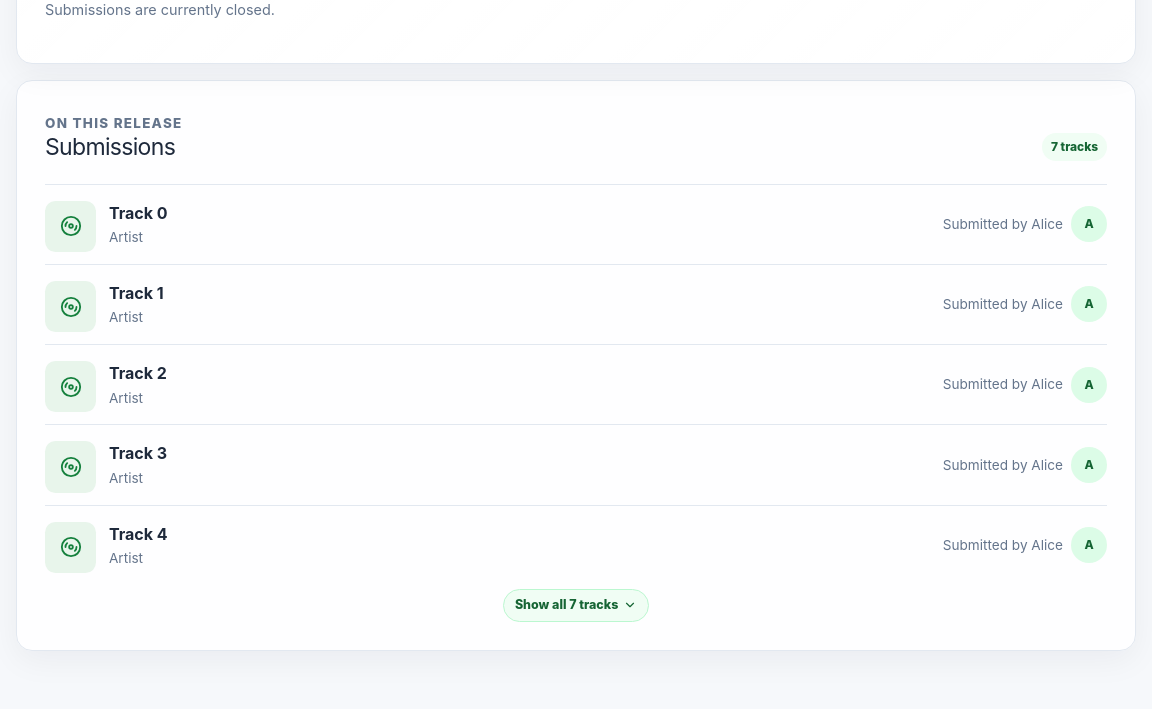
RoundPage › shows five submissions until expanded
(page scrolled)
Expected: the text "Track 4" is shown, [109,524,168,544]
Expected: the text "Track 5" is not shown
Click the button "Show all 7 tracks". click: (576, 605)
box: [503,589,649,622]
(page scrolled)
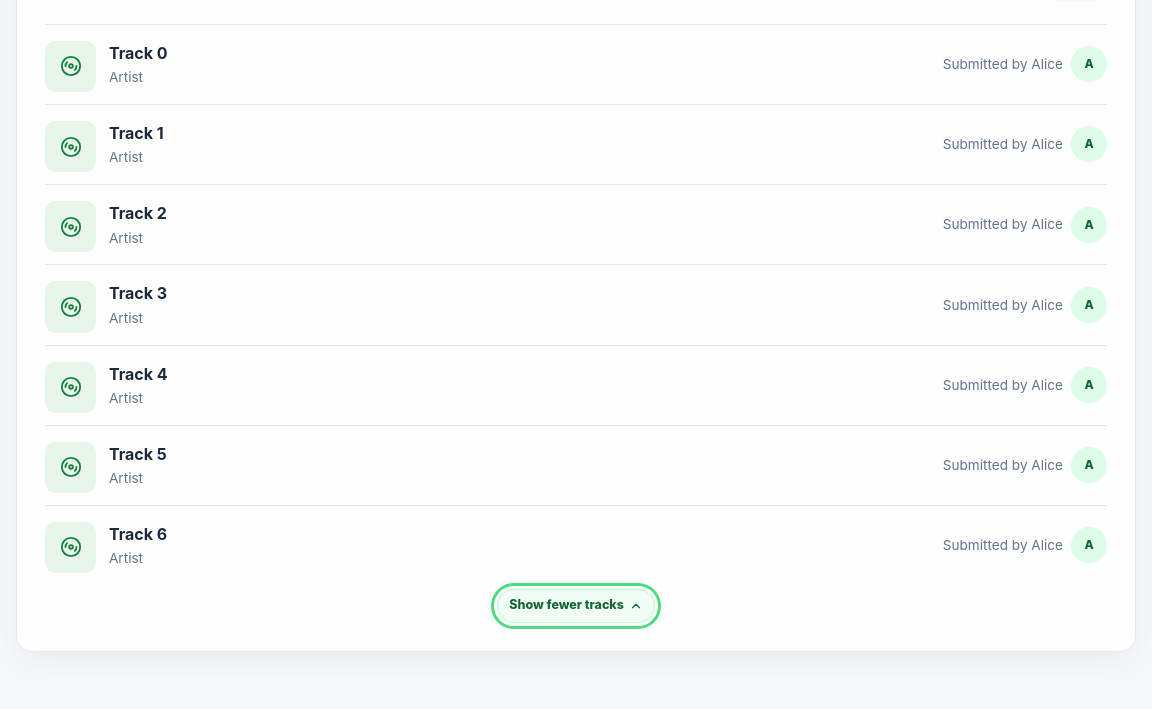
Now the text "Track 6" is shown, box [109,524,167,544]
Click the button "Show fewer tracks". click: (576, 606)
box: [497,589,655,623]
(page scrolled)
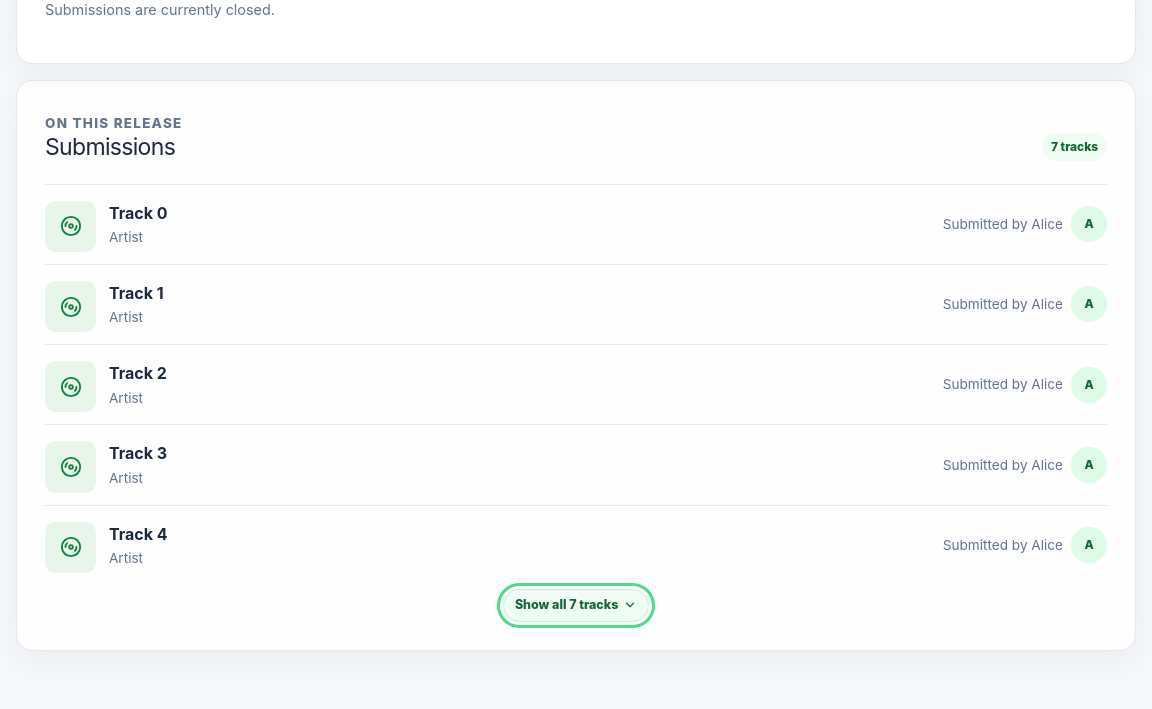
Now the text "Track 5" is gone
